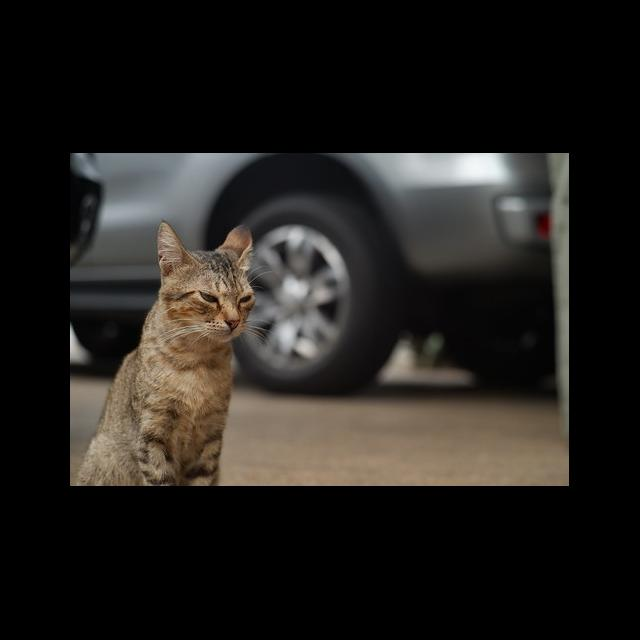animals: (70, 222, 256, 486)
